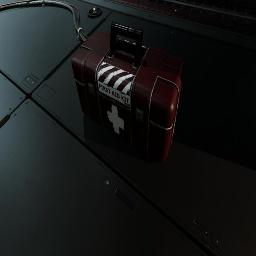FirstAidBox ,: (72, 21, 184, 163)
